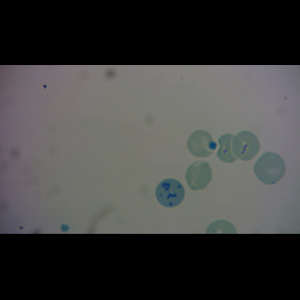aggregate reticulocyte: (154, 178, 186, 208)
erythrocyte: (231, 130, 262, 162), (186, 129, 218, 158), (185, 159, 213, 192), (216, 133, 244, 163)
punctate reticulocyte: (252, 151, 287, 186)
